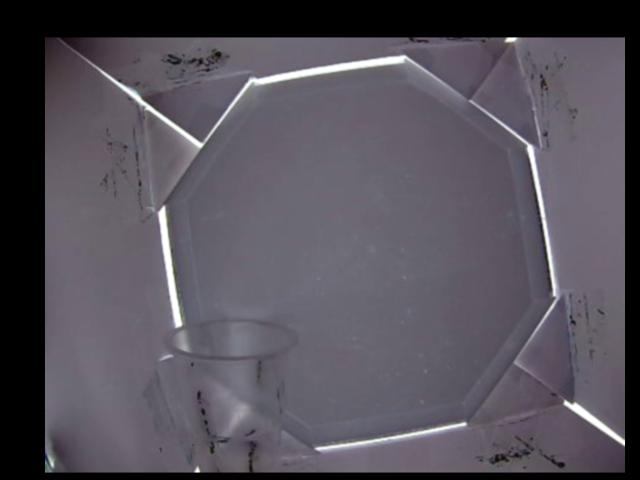Cup: (166, 316, 300, 472)
